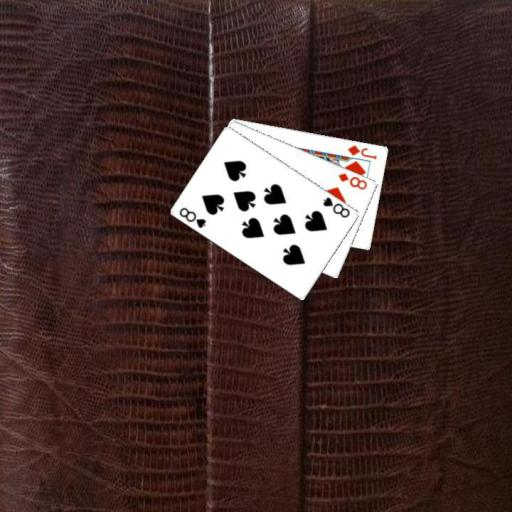8D: (335, 170, 369, 192)
8S: (320, 193, 352, 219), (176, 204, 208, 230)
JD: (345, 142, 378, 161)
